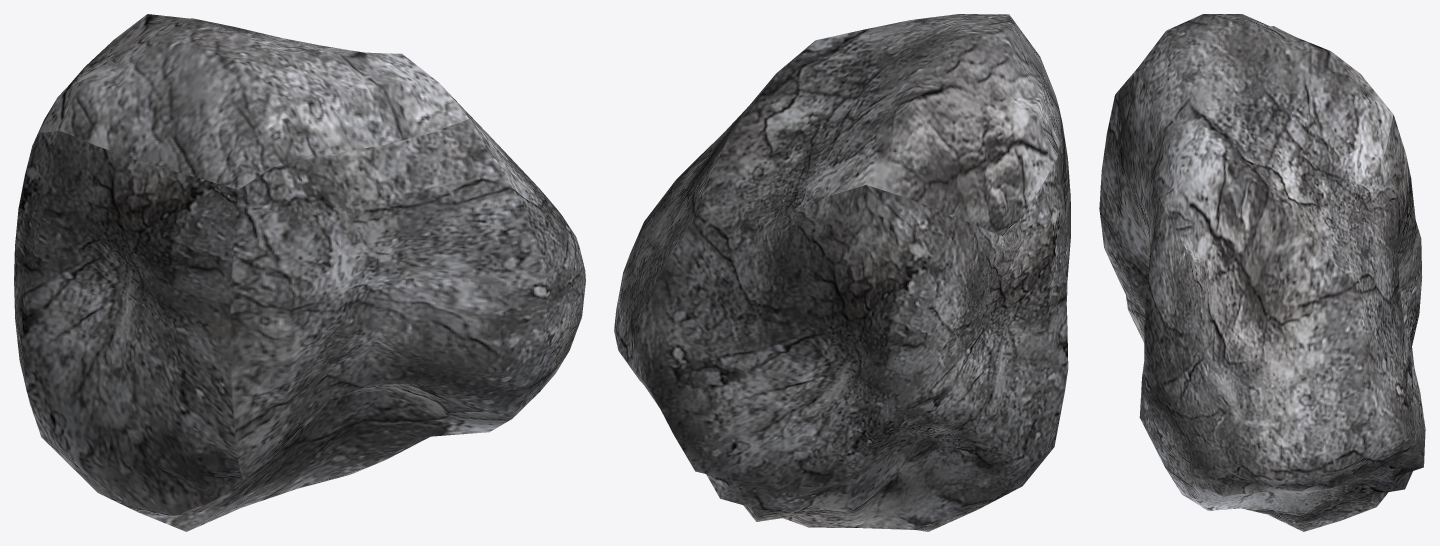
File: asteroid2.glb
The picture shows the model from 3 angles, left to right: view 1: azimuth 30°, elevation 25°; view 2: azimuth 150°, elevation 25°; view 3: azimuth 270°, elevation 25°; orthographic projection. The views are drawn at different scales.
Parts seen in each view (by area): view 1: Cube.037; view 2: Cube.037; view 3: Cube.037.
Part boxes in pixels (left/top/right/bottom): Cube.037: left=14, top=14, right=585, bottom=531; Cube.037: left=614, top=14, right=1070, bottom=531; Cube.037: left=1099, top=14, right=1425, bottom=531.
Size of the model in its own units: 27.54 by 27.2 by 18.33.
1 material, 1 textured.
